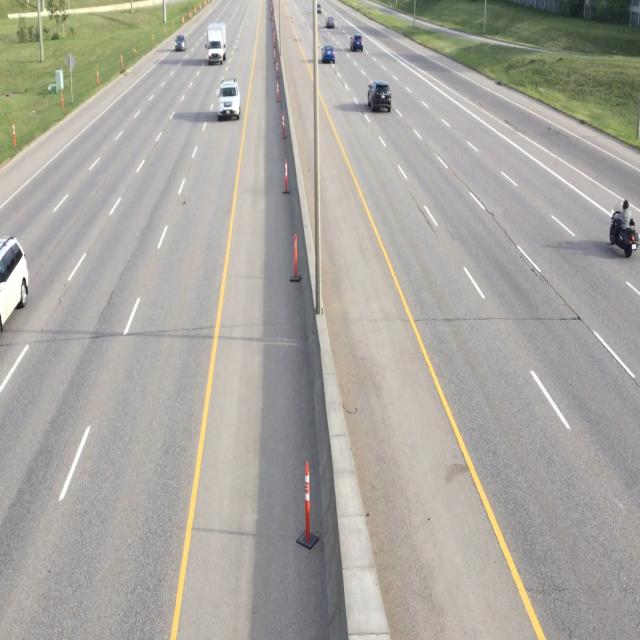Car: (217, 79, 241, 124), (368, 79, 394, 116), (206, 22, 227, 67), (320, 41, 337, 68), (350, 31, 364, 55), (176, 34, 187, 54), (325, 15, 336, 30)
